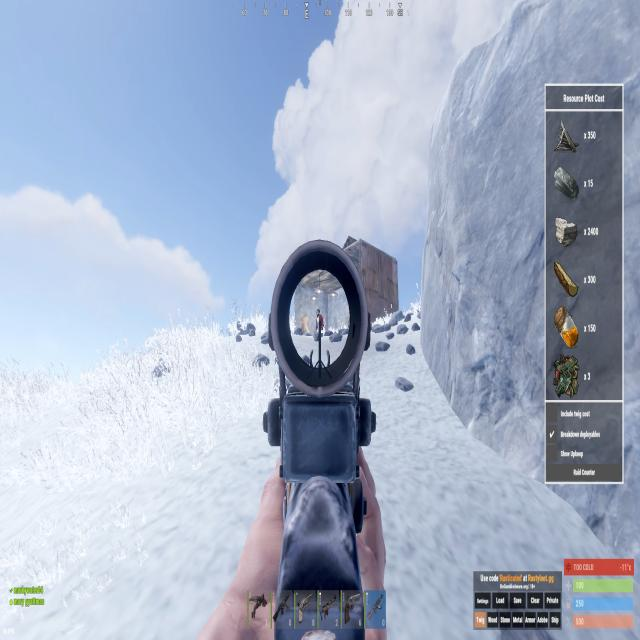Player: (314, 308, 326, 333)
